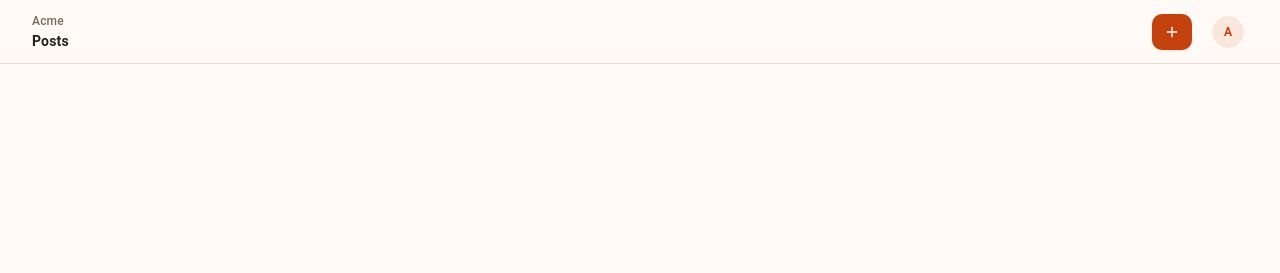
Actual Topbar › respects publisher permissions in account links and create action
Click the button named "Open account menu".
click(1228, 32)  # box [1208,12,1248,52]
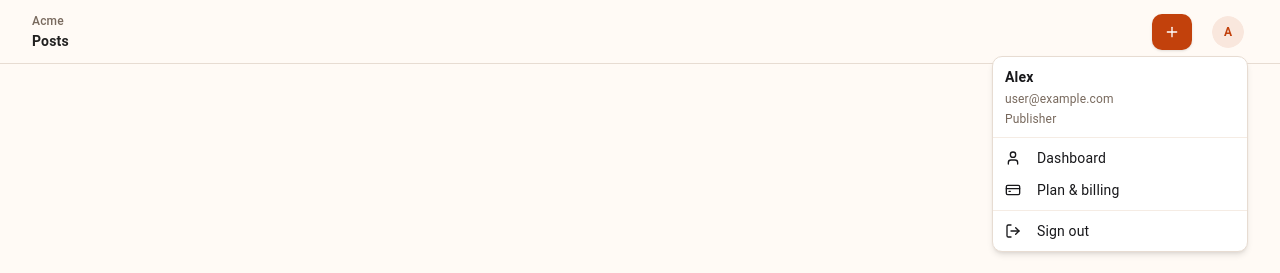
Now the text "Alex" is shown, box [1005,69,1033,85]
Now the text "user@example.com" is shown, box [1005,92,1114,106]
Now the text "Publisher" is shown, box [1005,112,1056,126]
